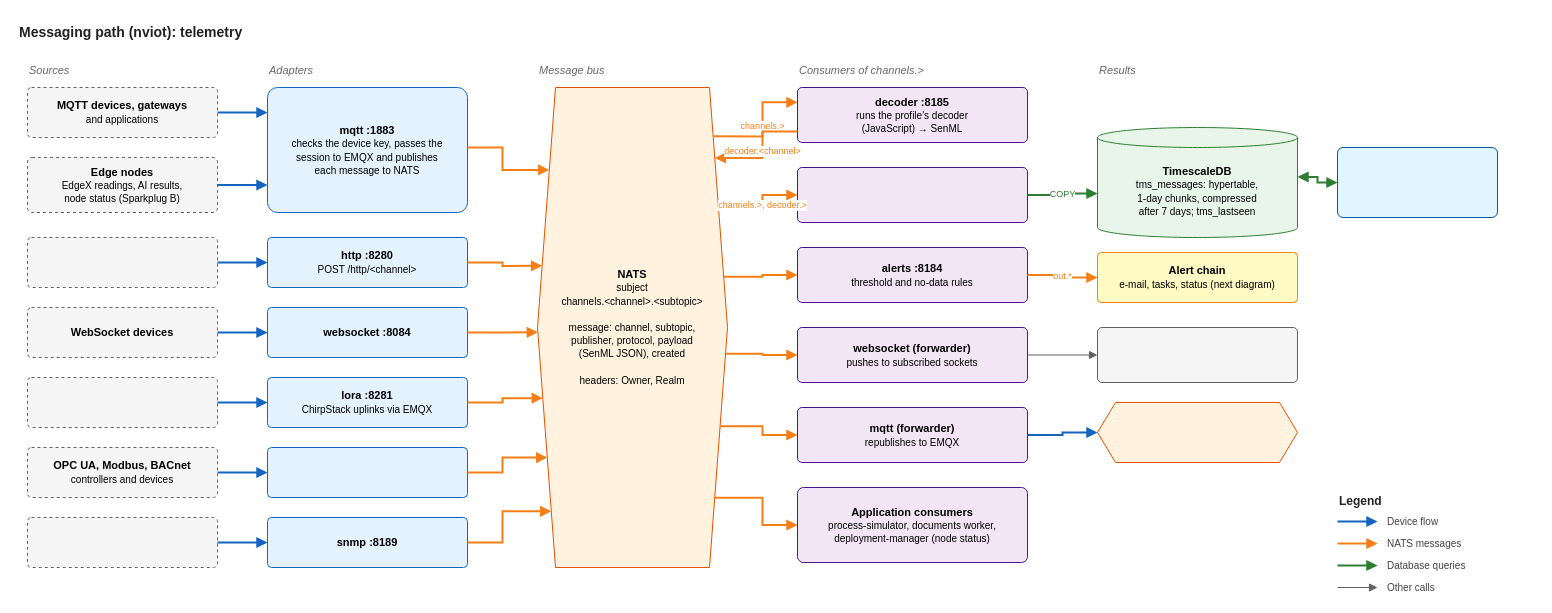
Some shapes in this 1552 by 613 pixel diagram are drawn without their labels. Here are the shapes that lost their labels. From the top down, the centre of each, then its label:
the point at 912,194: batch writer COPY every 100 ms or 1,000 rows
the point at 1417,182: datareader :8392 charts and export; Grafana reads SQL
the point at 122,262: HTTP devices
the point at 1197,354: Browser: live view wss /v1/websocket/<channel>
the point at 122,402: LoRaWAN sensors through gateways and ChirpStack
the point at 1197,432: EMQX to MQTT subscribers
the point at 367,472: opcua, modbus, bacnet subscribe or poll; deadband
the point at 122,542: SNMP agents traps and polled values
